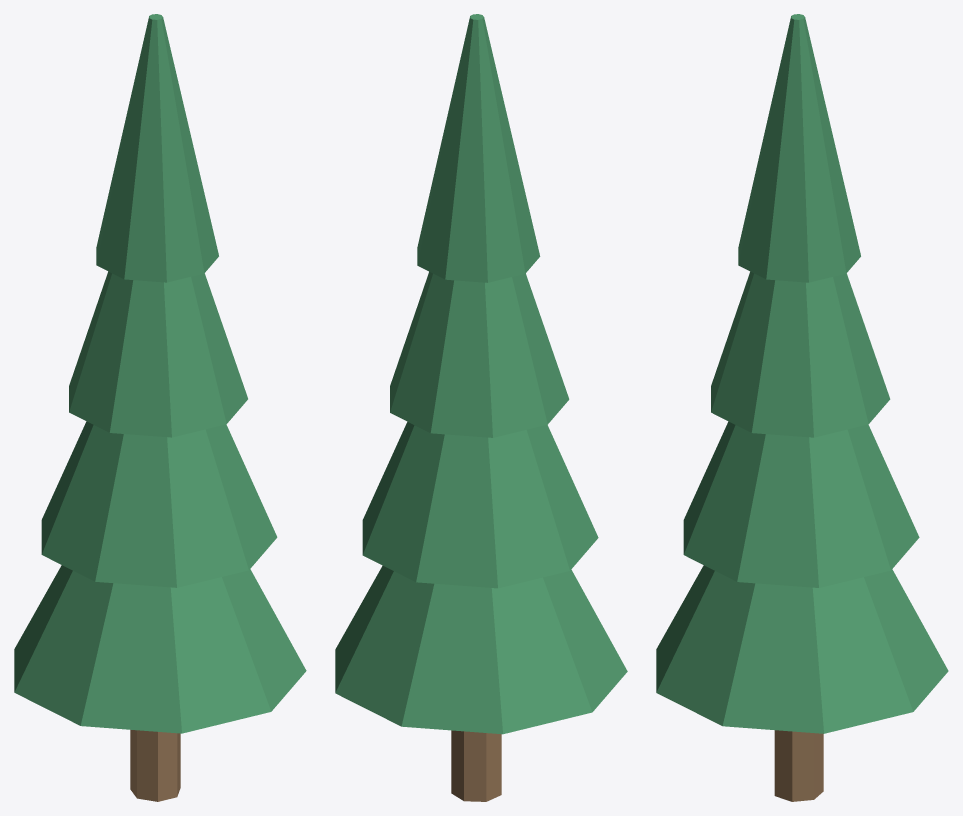
The model's file is conifer_01.glb.
3 views of the same model, side by side, from view 1: azimuth 30°, elevation 25°; view 2: azimuth 150°, elevation 25°; view 3: azimuth 270°, elevation 25° (orthographic).
Visible parts, largest first — view 1: conifer_01_needles_1, conifer_01_needles_2, conifer_01_needles_3, conifer_01_needles_4, conifer_01_trunk; view 2: conifer_01_needles_1, conifer_01_needles_2, conifer_01_needles_3, conifer_01_needles_4, conifer_01_trunk; view 3: conifer_01_needles_1, conifer_01_needles_2, conifer_01_needles_3, conifer_01_needles_4, conifer_01_trunk.
Part boxes in pixels (bbox=[...]): conifer_01_needles_1: bbox=[14, 565, 306, 733]; conifer_01_needles_2: bbox=[41, 421, 277, 587]; conifer_01_needles_3: bbox=[69, 271, 247, 437]; conifer_01_needles_4: bbox=[96, 14, 218, 282]; conifer_01_trunk: bbox=[130, 729, 180, 801]; conifer_01_needles_1: bbox=[335, 565, 627, 734]; conifer_01_needles_2: bbox=[362, 421, 598, 588]; conifer_01_needles_3: bbox=[390, 271, 569, 437]; conifer_01_needles_4: bbox=[417, 14, 540, 282]; conifer_01_trunk: bbox=[451, 730, 501, 801]; conifer_01_needles_1: bbox=[656, 565, 948, 733]; conifer_01_needles_2: bbox=[683, 421, 919, 587]; conifer_01_needles_3: bbox=[711, 271, 890, 437]; conifer_01_needles_4: bbox=[738, 14, 860, 282]; conifer_01_trunk: bbox=[774, 730, 823, 801].
Size of the model in its own units: 2.07 by 5.95 by 2.04.
